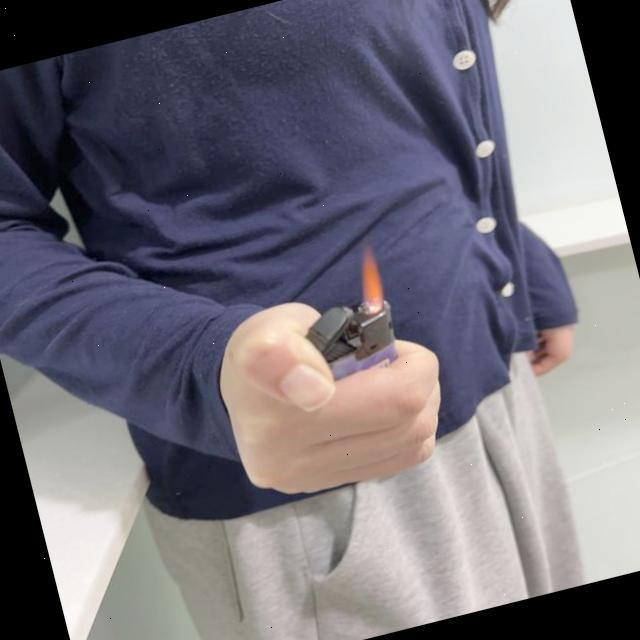fire: (347, 242, 388, 318)
